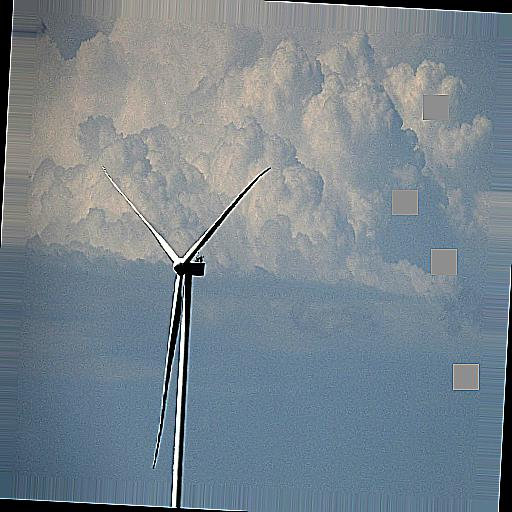wind turbine: (99, 164, 273, 481)
